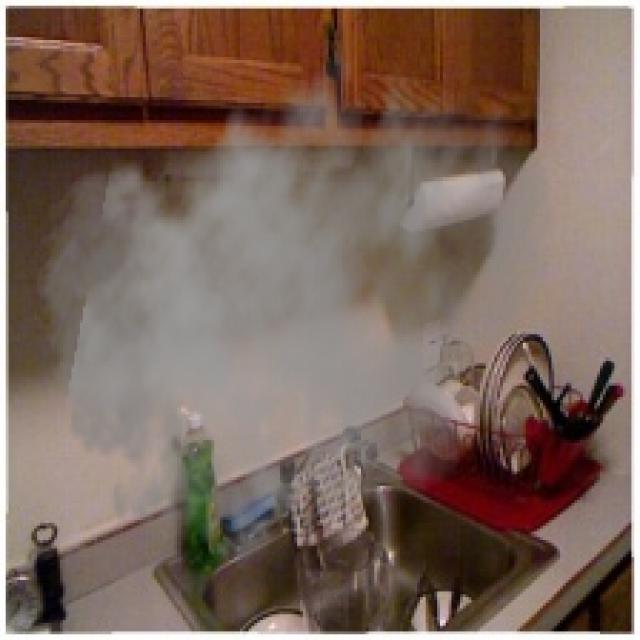smoke: (29, 23, 557, 588)
